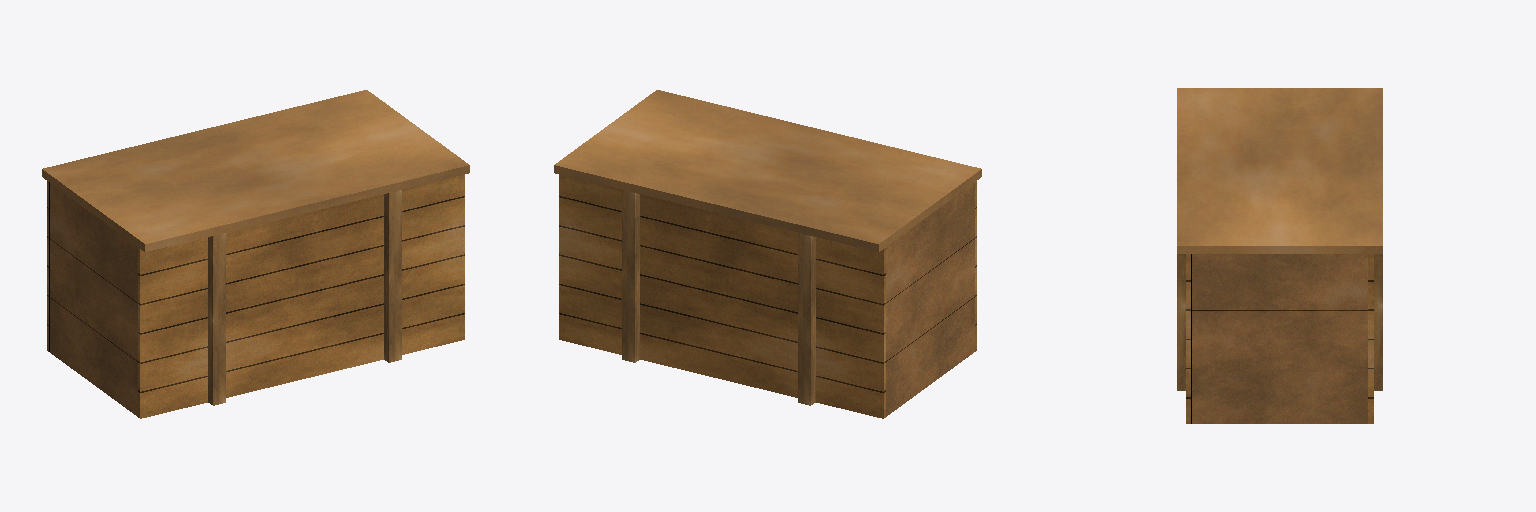
The picture shows the model from 3 angles: view 1: azimuth 30°, elevation 25°; view 2: azimuth 150°, elevation 25°; view 3: azimuth 270°, elevation 25°; orthographic projection.
Parts seen in each view (by area): view 1: Cube.002_Cube; view 2: Cube.002_Cube; view 3: Cube.002_Cube.
Part boxes in pixels (left/top/right/bottom): Cube.002_Cube: left=42, top=90, right=469, bottom=418; Cube.002_Cube: left=554, top=90, right=981, bottom=418; Cube.002_Cube: left=1177, top=88, right=1382, bottom=423.
Bounding box in the file's own units: 2 × 1.05 × 1.1.
Materials: 2 (2 with a texture image).